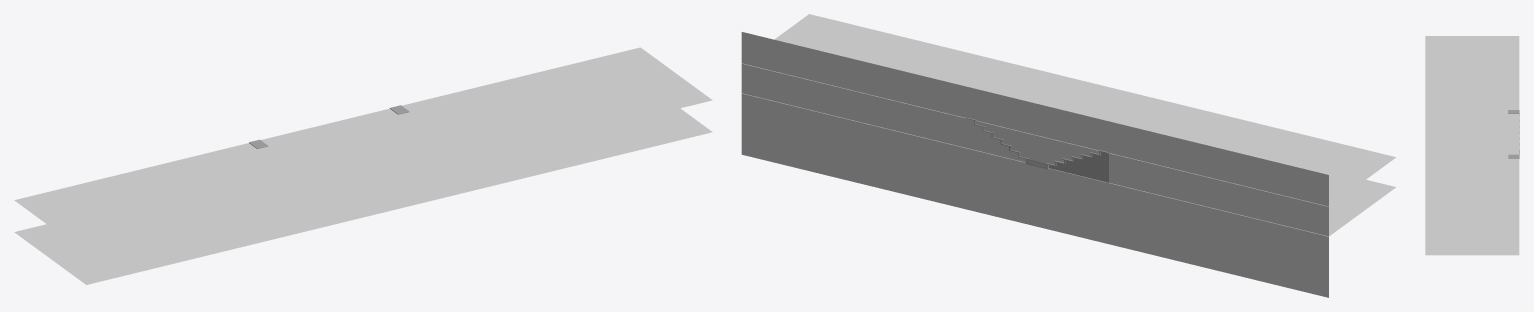
Rendered from map.glb.
The picture shows the model from 3 angles, left to right: view 1: azimuth 30°, elevation 25°; view 2: azimuth 150°, elevation 25°; view 3: azimuth 270°, elevation 25°; orthographic projection. The views are drawn at different scales.
Parts seen in each view (by area): view 1: Plane.001, Plane; view 2: Plane.002, Plane.001, Plane, FinalStair.001; view 3: Plane.001, Plane, FinalStair.001.
Boxes of the visible parts, <box> form: Plane.001: <box>14,47,712,252</box>; Plane: <box>14,108,712,284</box>; Plane.002: <box>741,32,1328,297</box>; Plane.001: <box>742,14,1395,206</box>; Plane: <box>741,93,1396,236</box>; FinalStair.001: <box>1038,150,1108,182</box>; Plane.001: <box>1425,36,1519,234</box>; Plane: <box>1425,234,1519,255</box>; FinalStair.001: <box>1508,110,1519,149</box>.
Size of the model in its own units: 100 by 20 by 20.05.
Materials: 3 (1 with a texture image).
